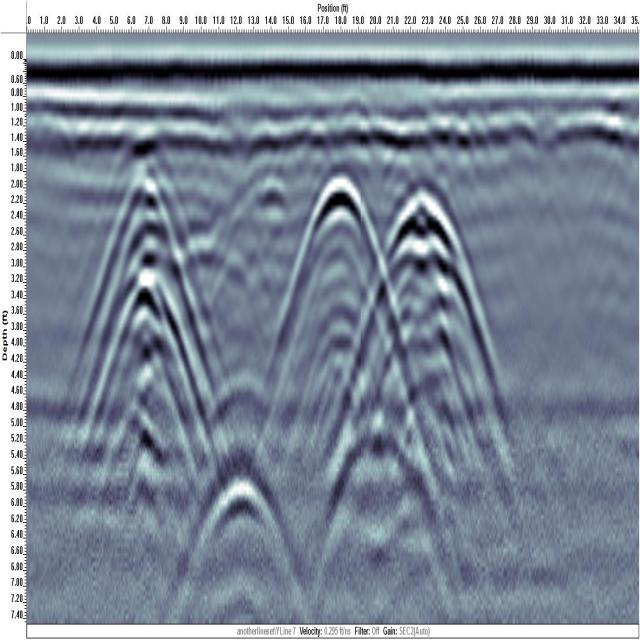hyperbola: (98, 158, 194, 433), (371, 166, 476, 358), (191, 451, 290, 596), (296, 154, 389, 304)
